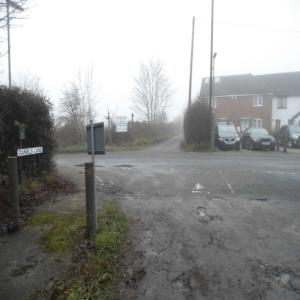Vehicle-registration-plate: (263, 143, 271, 146), (227, 143, 234, 145)
